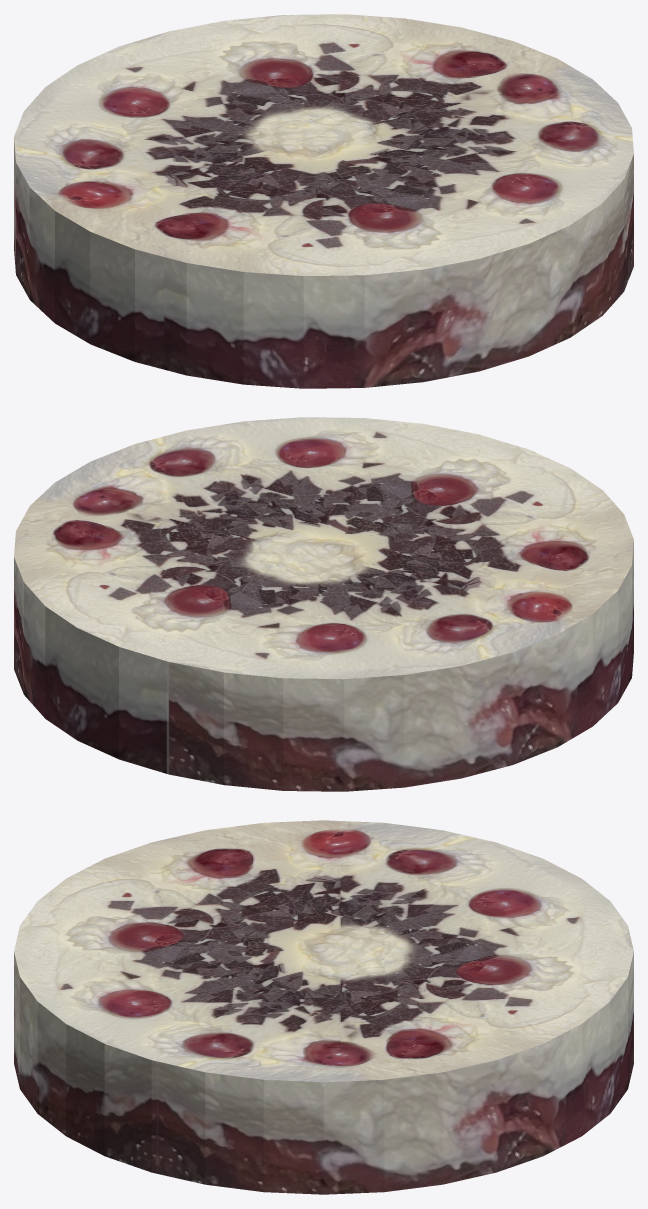
File: cake0.glb
3 views of the same model, one above another, from view 1: azimuth 30°, elevation 25°; view 2: azimuth 150°, elevation 25°; view 3: azimuth 270°, elevation 25° (orthographic).
Parts seen in each view (by area): view 1: Cylinder.002; view 2: Cylinder.002; view 3: Cylinder.002.
Part boxes in pixels (left/top/right/bottom): Cylinder.002: left=14, top=14, right=633, bottom=388; Cylinder.002: left=14, top=417, right=633, bottom=791; Cylinder.002: left=14, top=820, right=633, bottom=1194.
Bounding box in the file's own units: 2 × 0.4 × 2.
1 material, 1 textured.
